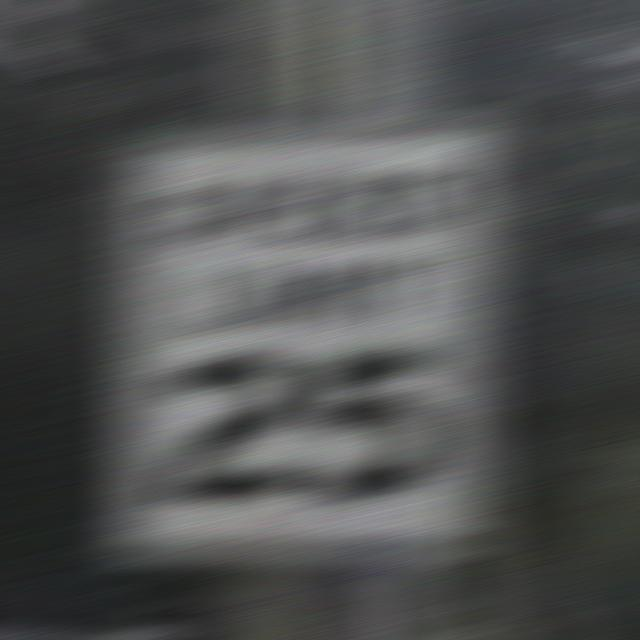speedLimit25: (112, 116, 494, 554)
